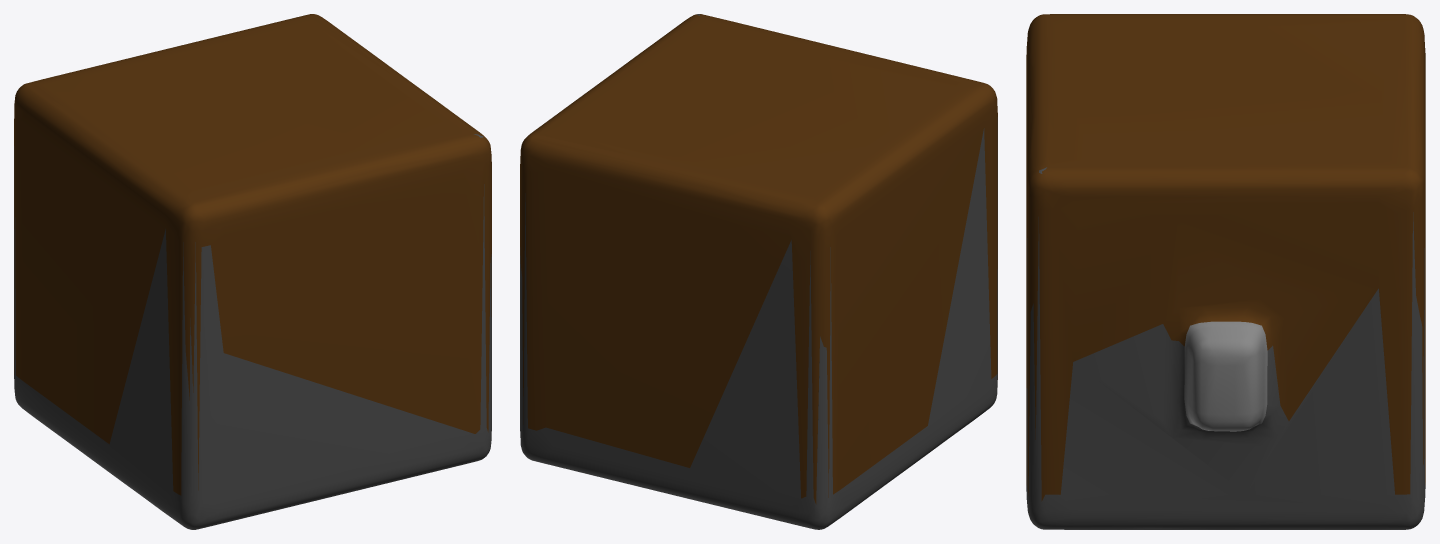
File: oldChest.fbx
The picture shows the model from 3 angles, left to right: view 1: azimuth 30°, elevation 25°; view 2: azimuth 150°, elevation 25°; view 3: azimuth 270°, elevation 25°; orthographic projection. The views are drawn at different scales.
Visible parts, largest first — view 1: Cube; view 2: Cube; view 3: Cube.
Part boxes in pixels (x1,y1,x2,y2): Cube: [14, 14, 491, 529]; Cube: [520, 14, 997, 529]; Cube: [1026, 14, 1425, 529].
Size of the model in its own units: 221 by 200 by 200.
